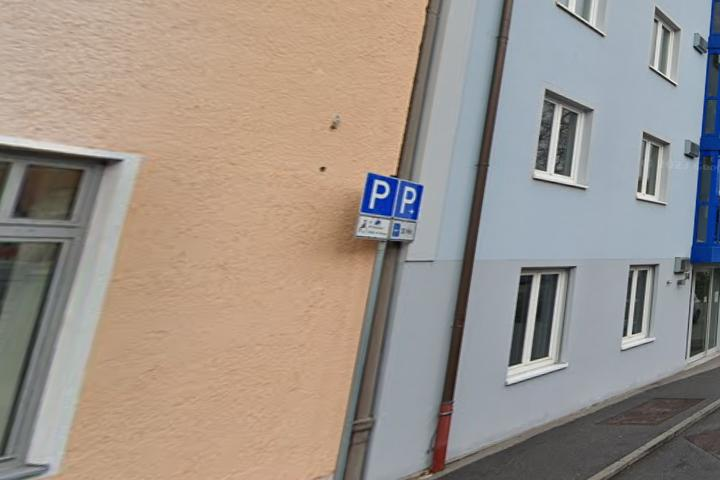traffic_sign: (358, 172, 399, 218), (392, 180, 426, 222)
